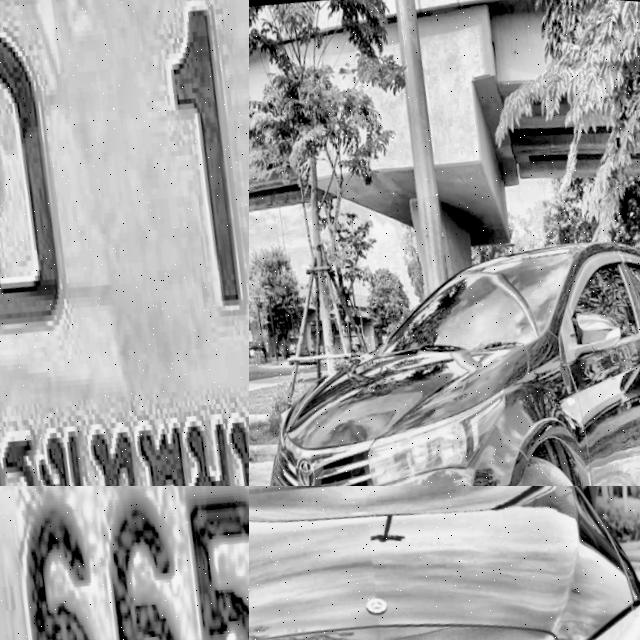license-plate: (0, 0, 249, 486), (0, 486, 249, 640)
